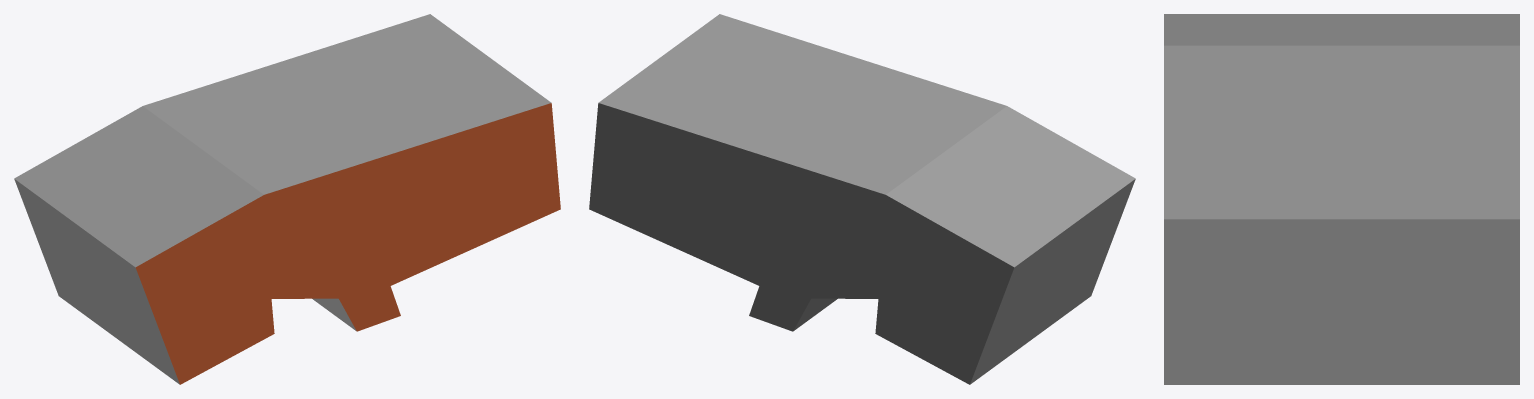
The model's file is construction_2218_assumed_A_Casa_h6m.obj.
3 renders of one model, left to right at view 1: azimuth 30°, elevation 25°; view 2: azimuth 150°, elevation 25°; view 3: azimuth 270°, elevation 25°, orthographic. The views are drawn at different scales.
Visible parts, largest first — view 1: construction_2218_assumed_A_Casa; view 2: construction_2218_assumed_A_Casa; view 3: construction_2218_assumed_A_Casa.
Boxes of the visible parts, x1,y1,x2,y2 form: construction_2218_assumed_A_Casa: (14,14,560,384); construction_2218_assumed_A_Casa: (589,14,1135,384); construction_2218_assumed_A_Casa: (1164,14,1519,384).
Size of the model in its own units: 12.14 by 5.22 by 6.
